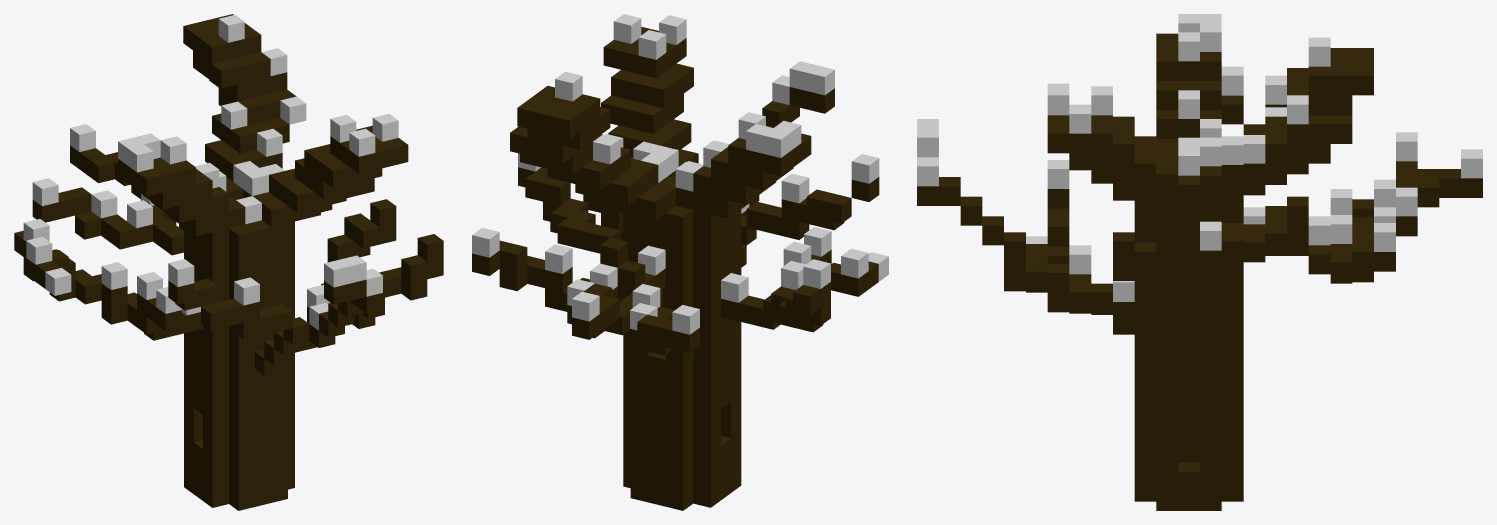
File: Dead tree with snow.obj
The picture shows the model from 3 angles, left to right: view 1: azimuth 30°, elevation 25°; view 2: azimuth 150°, elevation 25°; view 3: azimuth 270°, elevation 25°; orthographic projection. The views are drawn at different scales.
Visible parts, largest first — view 1: Dead tree with snow; view 2: Dead tree with snow; view 3: Dead tree with snow.
Part boxes in pixels (x1=…): Dead tree with snow: x1=14, y1=14, x2=443, y2=510; Dead tree with snow: x1=472, y1=14, x2=888, y2=510; Dead tree with snow: x1=917, y1=14, x2=1482, y2=510.
Bounding box in the file's own units: 20 × 24 × 26.
Materials: 1 (1 with a texture image).
